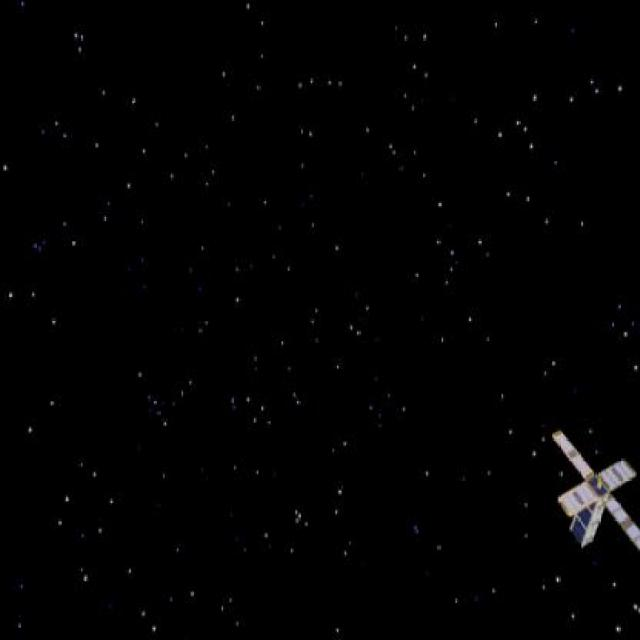medium_debris: (543, 431, 640, 566)
